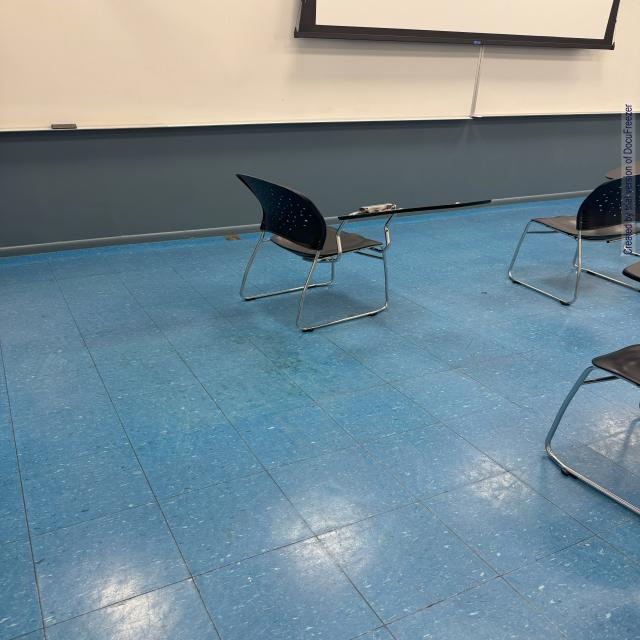chair: (227, 166, 420, 340), (514, 167, 640, 308)
